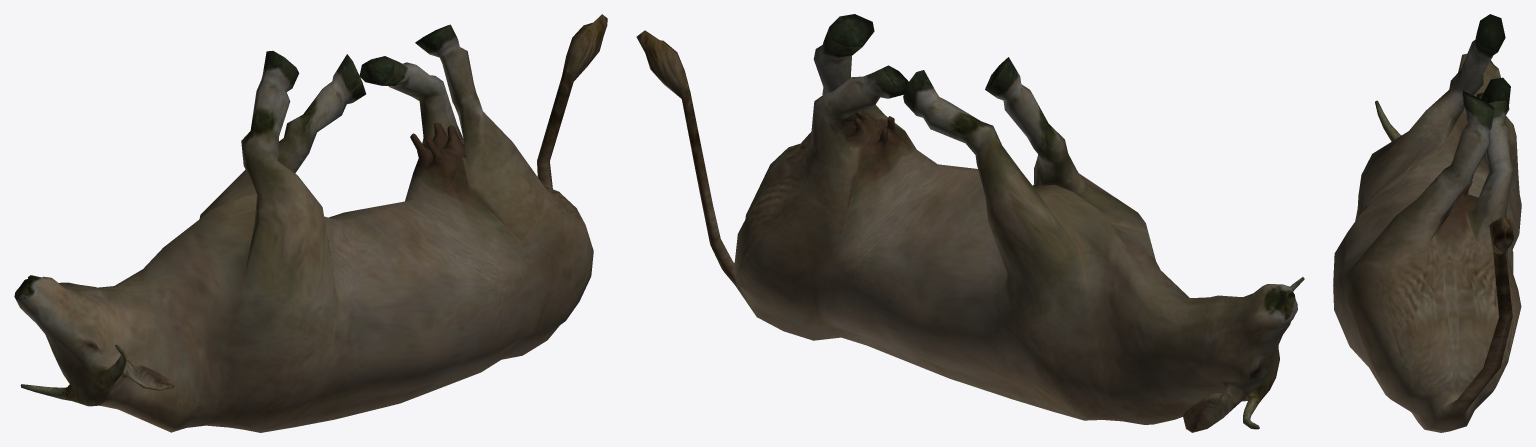
The model's file is cow_dead_2.glb.
The picture shows the model from 3 angles, left to right: view 1: azimuth 30°, elevation 25°; view 2: azimuth 150°, elevation 25°; view 3: azimuth 270°, elevation 25°; orthographic projection. The views are drawn at different scales.
Size of the model in its own units: 147 by 81.03 by 41.97.
Materials: 1 (1 with a texture image).
